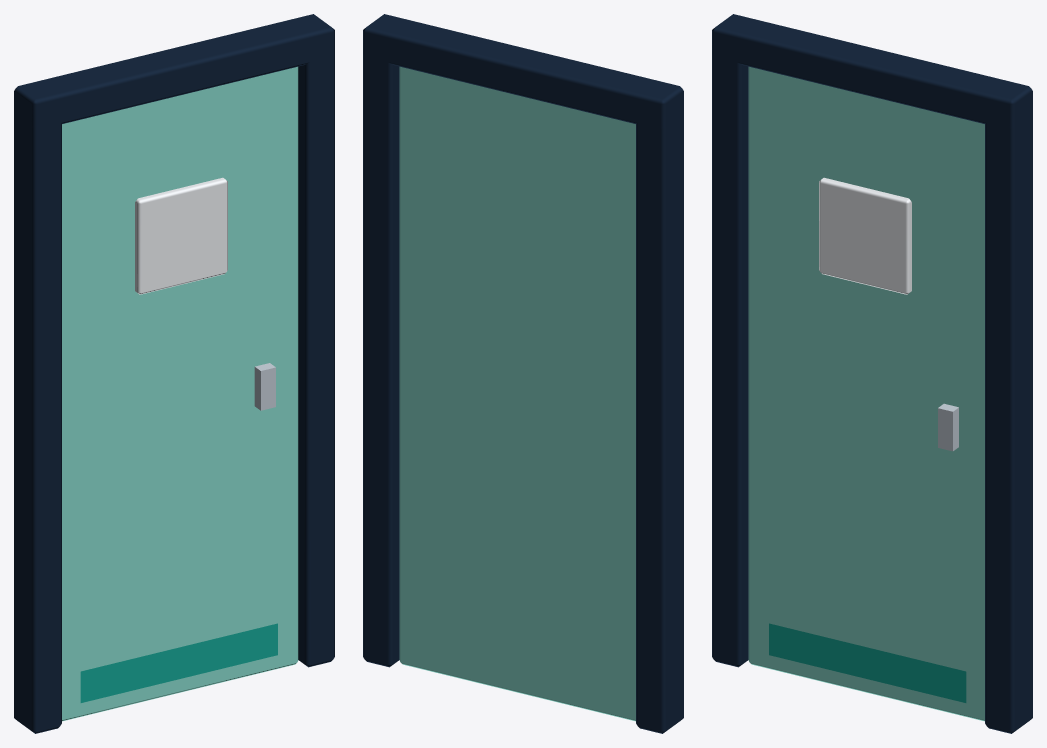
File: CM_Interior_RestroomDoor.fbx
3 views of the same model, side by side, from view 1: azimuth 30°, elevation 25°; view 2: azimuth 150°, elevation 25°; view 3: azimuth 330°, elevation 25° (orthographic).
Parts seen in each view (by area): view 1: Door, Body, SignPlate; view 2: Door, Body; view 3: Door, Body, SignPlate.
Part boxes in pixels (x1,y1,x2,y2): Door: (62, 66, 298, 721); Body: (14, 14, 334, 733); SignPlate: (135, 177, 227, 294); Door: (399, 66, 635, 721); Body: (363, 14, 683, 733); Door: (748, 66, 984, 721); Body: (712, 14, 1032, 733); SignPlate: (819, 177, 911, 294).
Size of the model in its own units: 4 by 0.5 by 8.
Materials: 1 (1 with a texture image).
